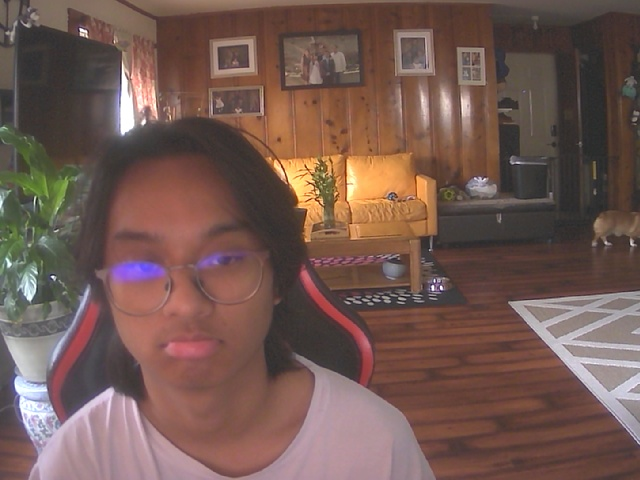sad: (93, 132, 289, 398)
